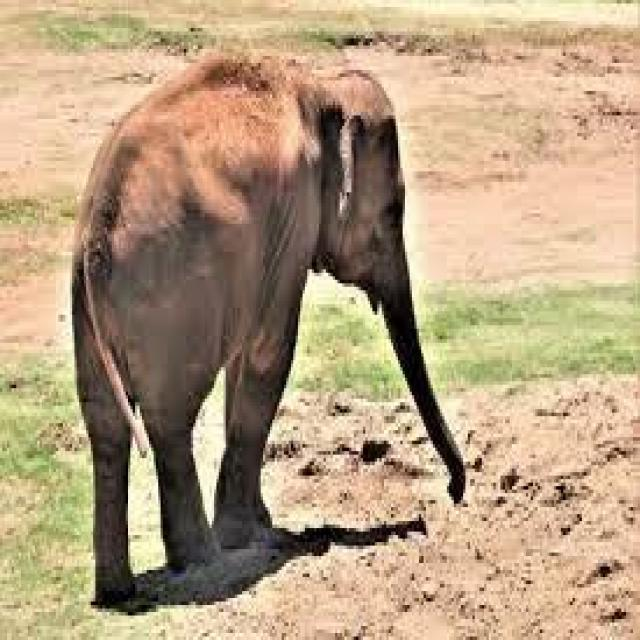Elephant: (63, 35, 468, 602)
